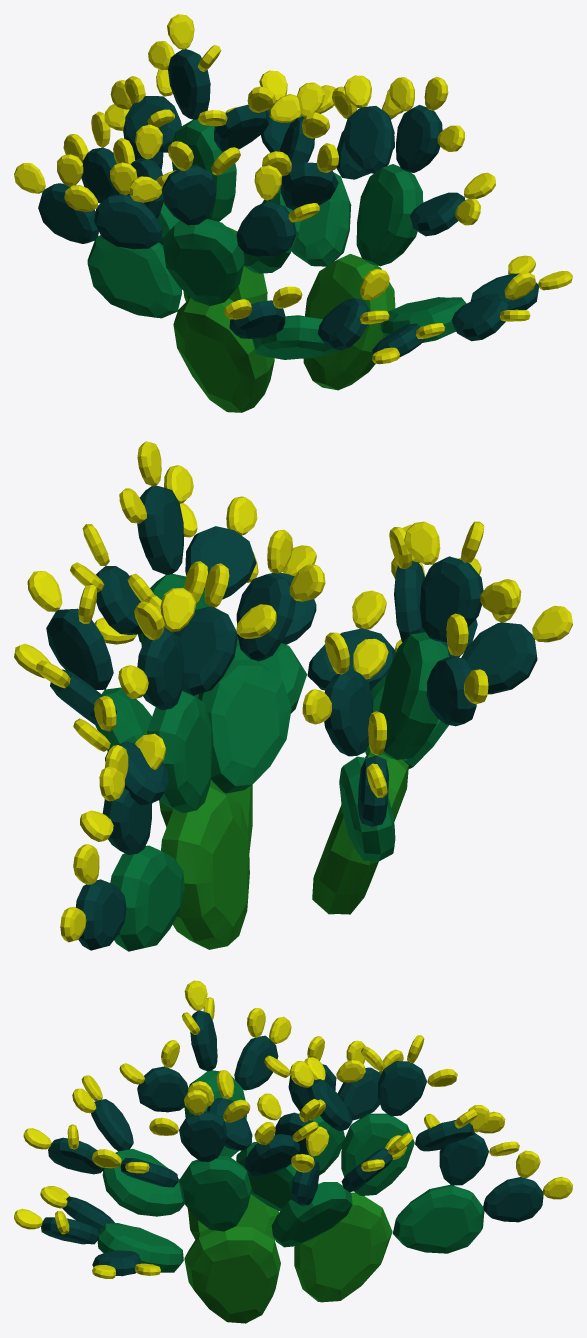
The model's file is SM__Prickly__Pear__Growth__3.fbx.
3 views of the same model, one above another, from view 1: azimuth 30°, elevation 25°; view 2: azimuth 150°, elevation 25°; view 3: azimuth 270°, elevation 25° (orthographic). The views are drawn at different scales.
Visible parts, largest first — view 1: normal12; view 2: normal12; view 3: normal12.
Part boxes in pixels (left/top/right/bottom): normal12: left=14, top=14, right=572, bottom=412; normal12: left=14, top=441, right=572, bottom=951; normal12: left=14, top=980, right=572, bottom=1323.
Size of the model in its own units: 2.88 by 2.13 by 4.05.
